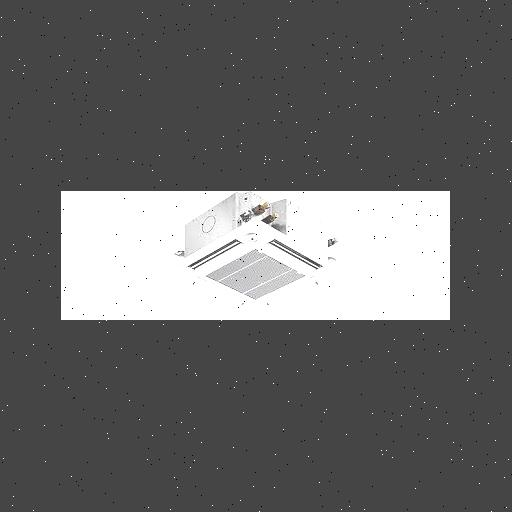4-way-ac: (162, 220, 352, 320)
